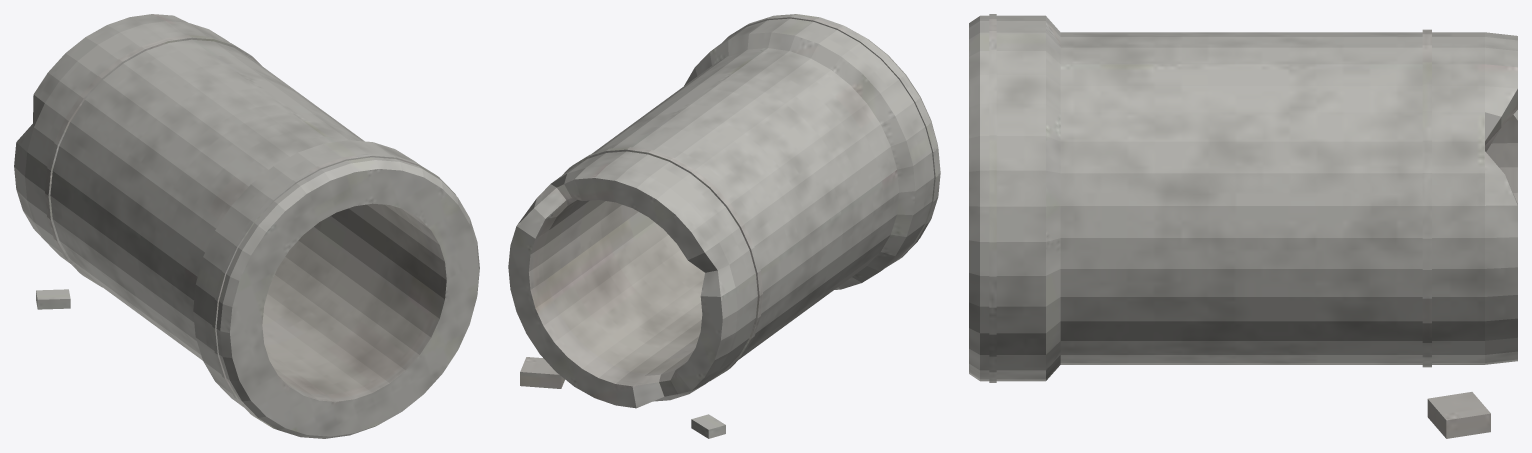
The model's file is CS19_concrete_pipes_v1.glb.
3 renders of one model, left to right at view 1: azimuth 30°, elevation 25°; view 2: azimuth 150°, elevation 25°; view 3: azimuth 270°, elevation 25°, orthographic. The views are drawn at different scales.
Parts seen in each view (by area): view 1: Horizontal concrete drainage pipe; view 2: Horizontal concrete drainage pipe; view 3: Horizontal concrete drainage pipe.
Part boxes in pixels (x1,y1,x2,y2): Horizontal concrete drainage pipe: (14,14,479,438); Horizontal concrete drainage pipe: (508,14,940,438); Horizontal concrete drainage pipe: (969,14,1517,438).
Size of the model in its own units: 1.01 by 1.01 by 1.5.
Materials: 2 (2 with a texture image).
